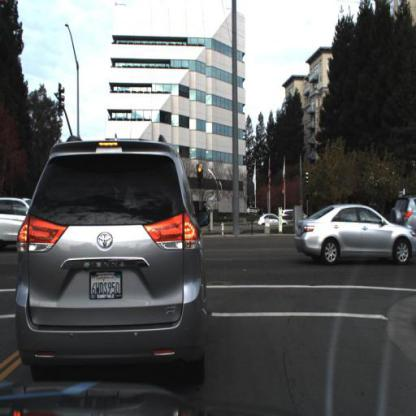car: (14, 135, 211, 379), (295, 202, 416, 274), (1, 197, 34, 251), (99, 211, 130, 243), (259, 213, 288, 229)
trafficLight-Red: (196, 161, 205, 190)
